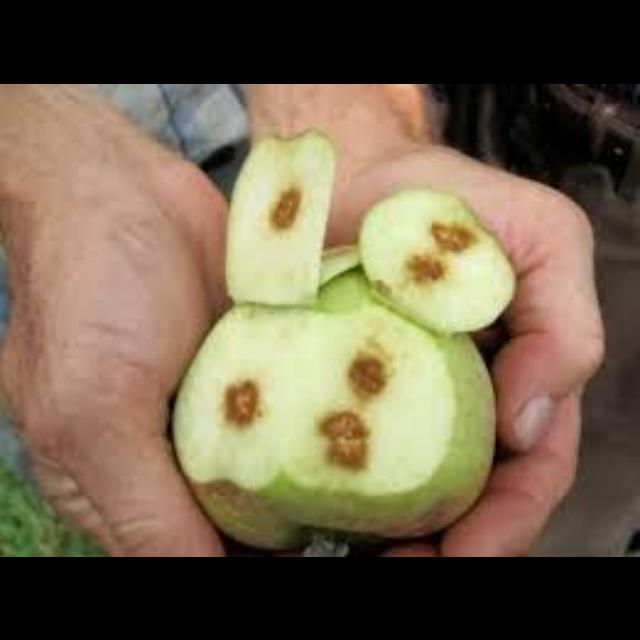apple: (174, 134, 515, 549)
pest: (317, 410, 374, 469), (221, 378, 263, 432), (344, 354, 388, 396), (406, 251, 450, 291), (429, 220, 481, 250), (274, 190, 299, 227)
